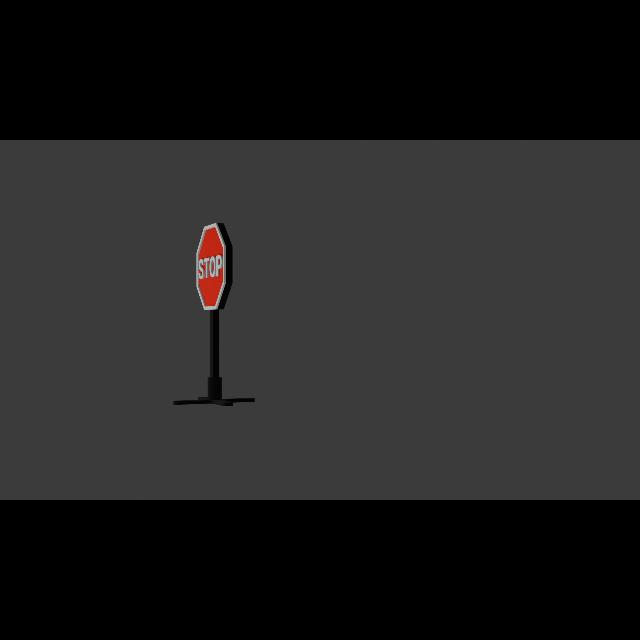sign_stop: (197, 223, 234, 311)
